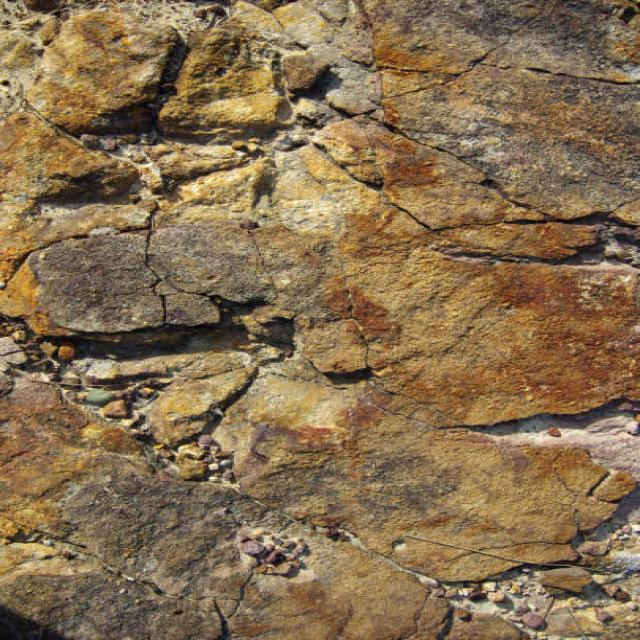Sedimentary: (1, 1, 640, 637)
